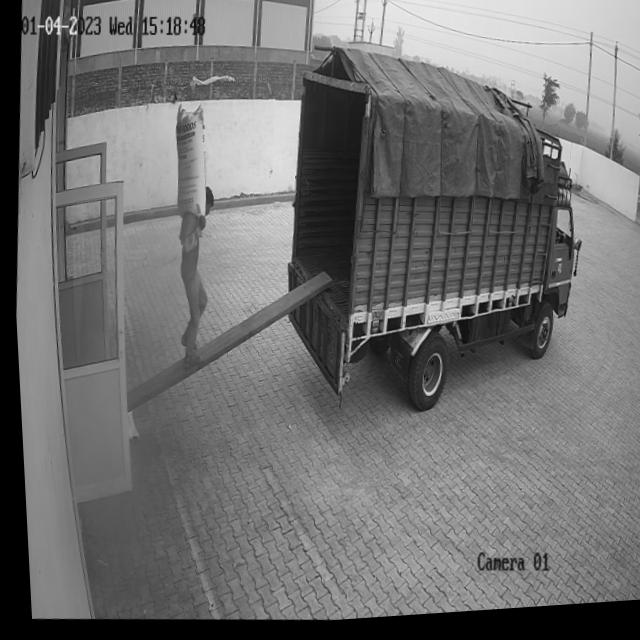sack: (167, 104, 210, 223)
